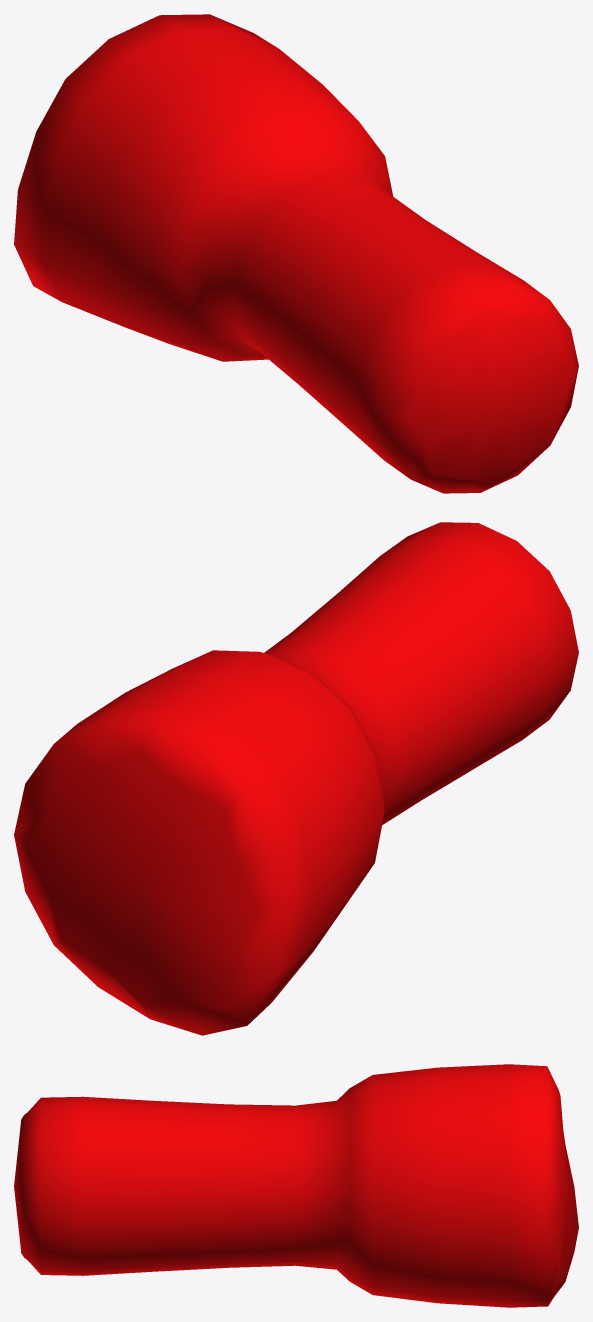
File: arm.fbx
3 views of the same model, one above another, from view 1: azimuth 30°, elevation 25°; view 2: azimuth 150°, elevation 25°; view 3: azimuth 270°, elevation 25° (orthographic). The views are drawn at different scales.
Visible parts, largest first — view 1: arm; view 2: arm; view 3: arm.
Part boxes in pixels (x1=…): arm: x1=14, y1=14, x2=578, y2=493; arm: x1=14, y1=522, x2=578, y2=1035; arm: x1=14, y1=1064, x2=578, y2=1307.
Bounding box in the file's own units: 100 × 100 × 229.
